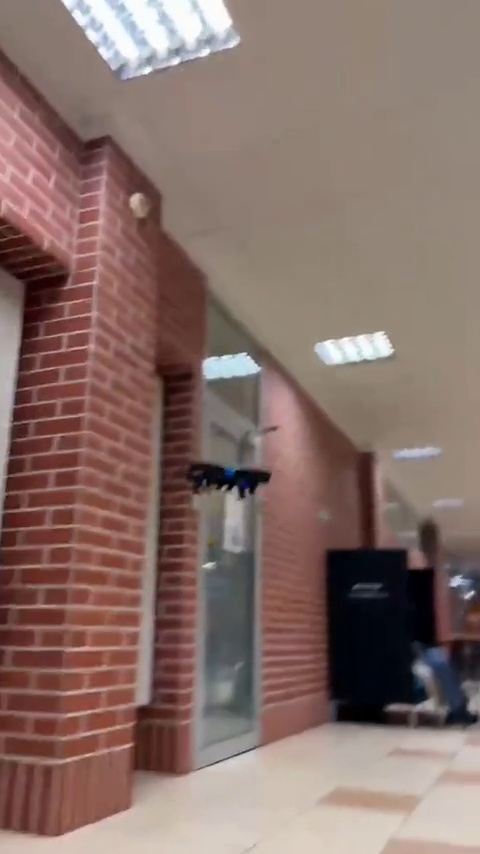drone: (177, 455, 274, 499)
